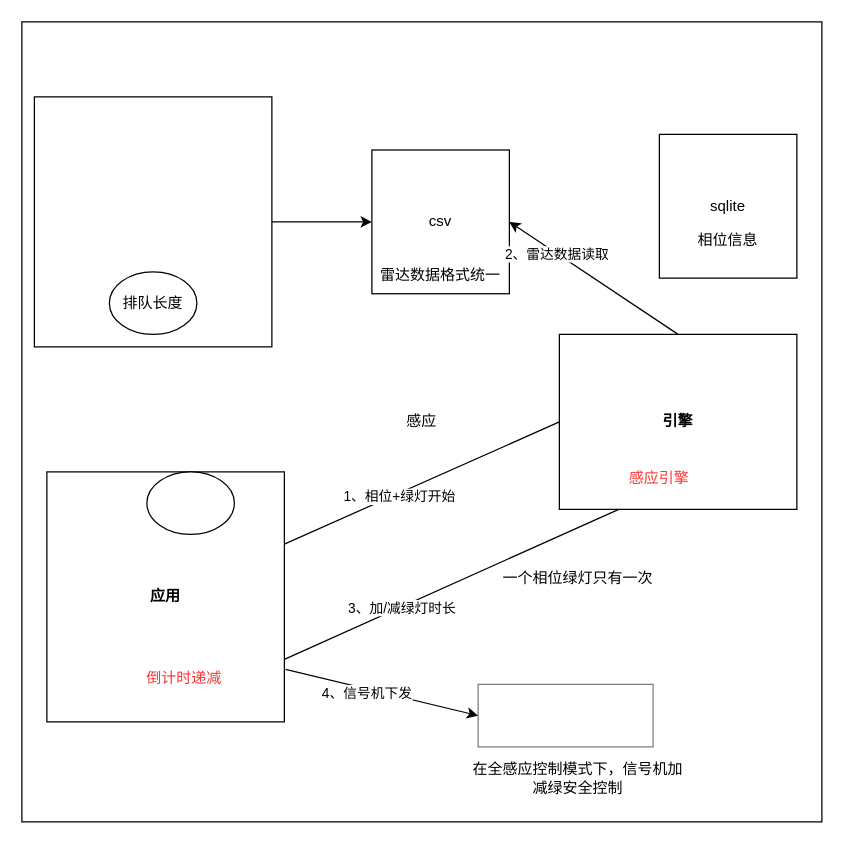
Some shapes in this 844 by 844 pixel diagram are drawn without their labels. The shapes that lost their labels are listed below. From the top down, each one's box as (x1, y1, x2, y2) in pixels, then its label:
(33, 96, 272, 347): 雷达
(146, 471, 234, 534): 倒计时
(477, 683, 653, 747): 信号机
